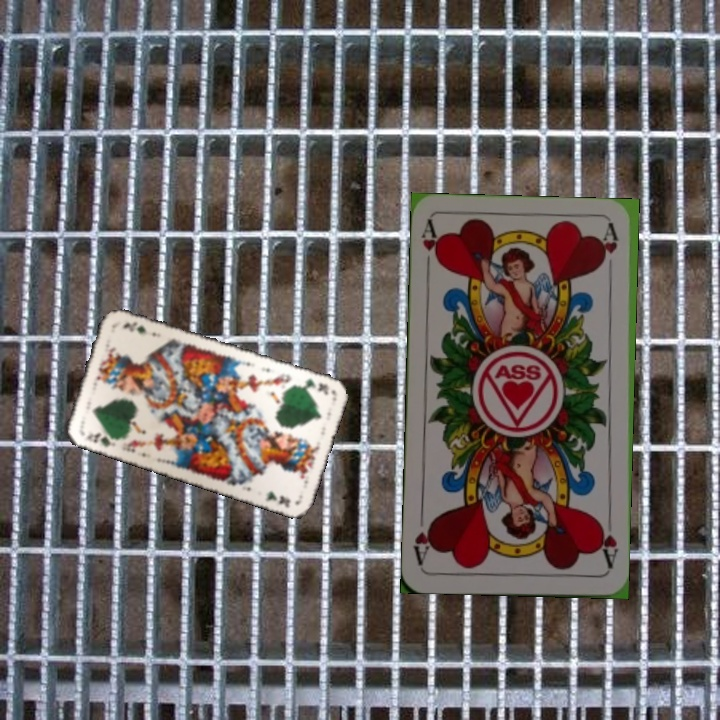GK: (293, 375, 331, 398), (83, 429, 119, 450)
HA: (417, 218, 444, 277), (594, 518, 620, 571)
